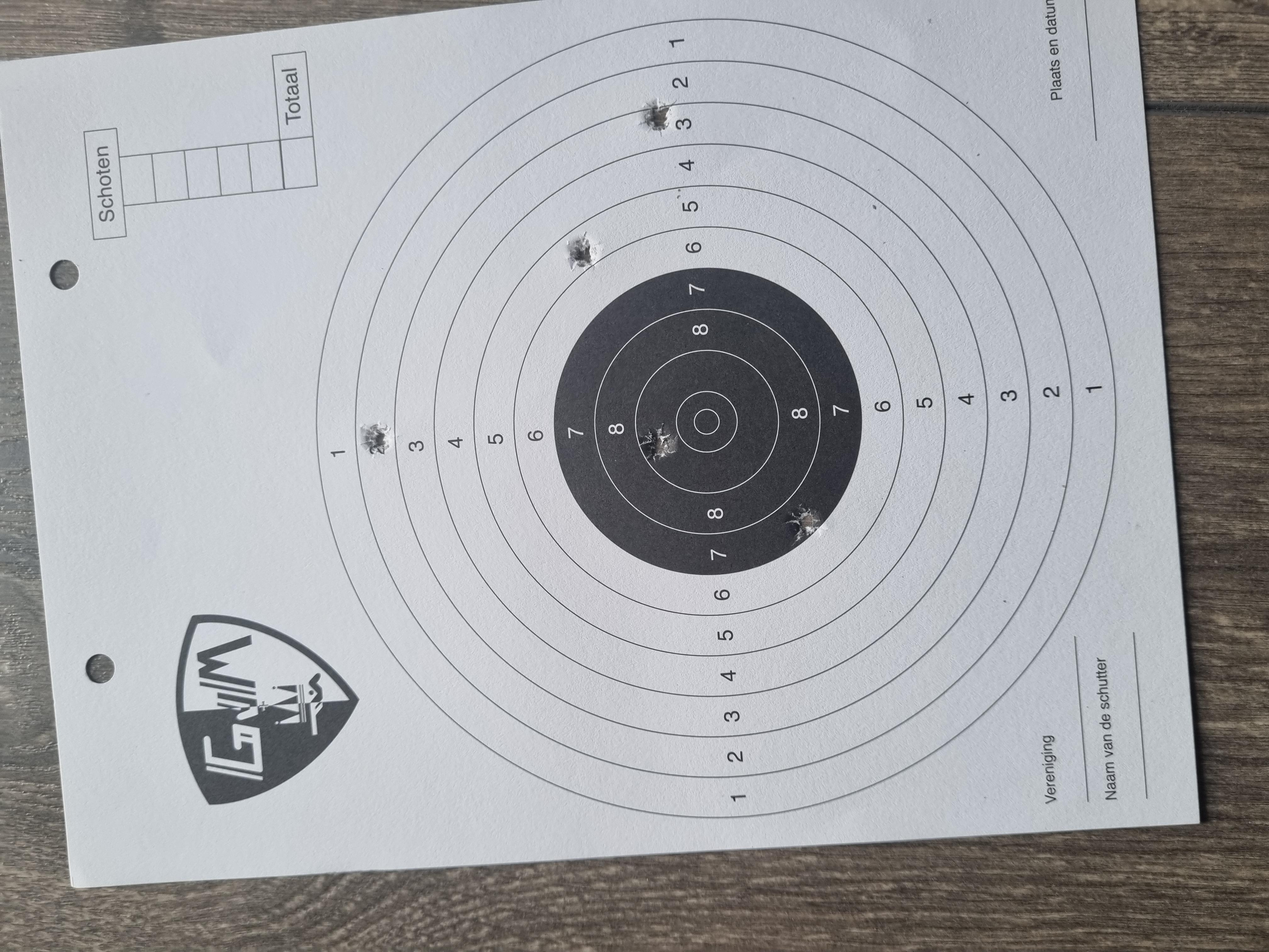hole: (1087, 479, 1138, 508), (654, 479, 704, 508), (544, 589, 596, 614), (907, 426, 961, 447), (663, 270, 707, 294)
